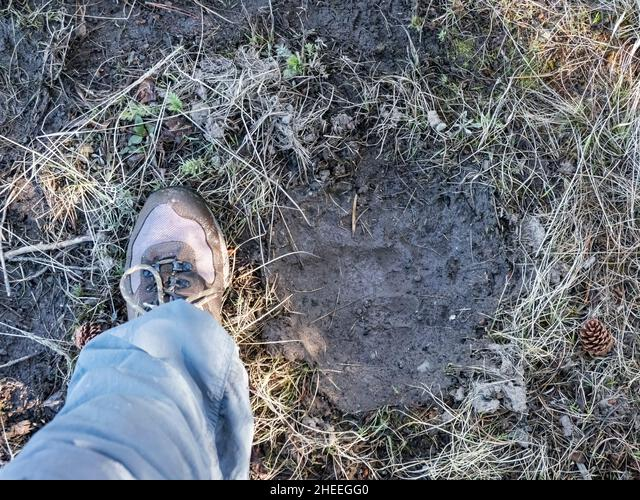bear: (245, 106, 512, 421)
